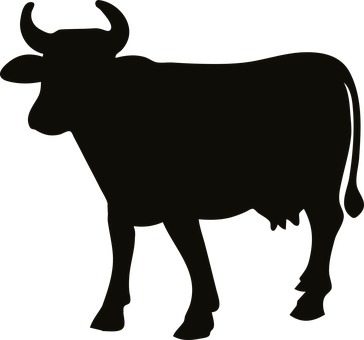cow: (1, 1, 364, 340)
